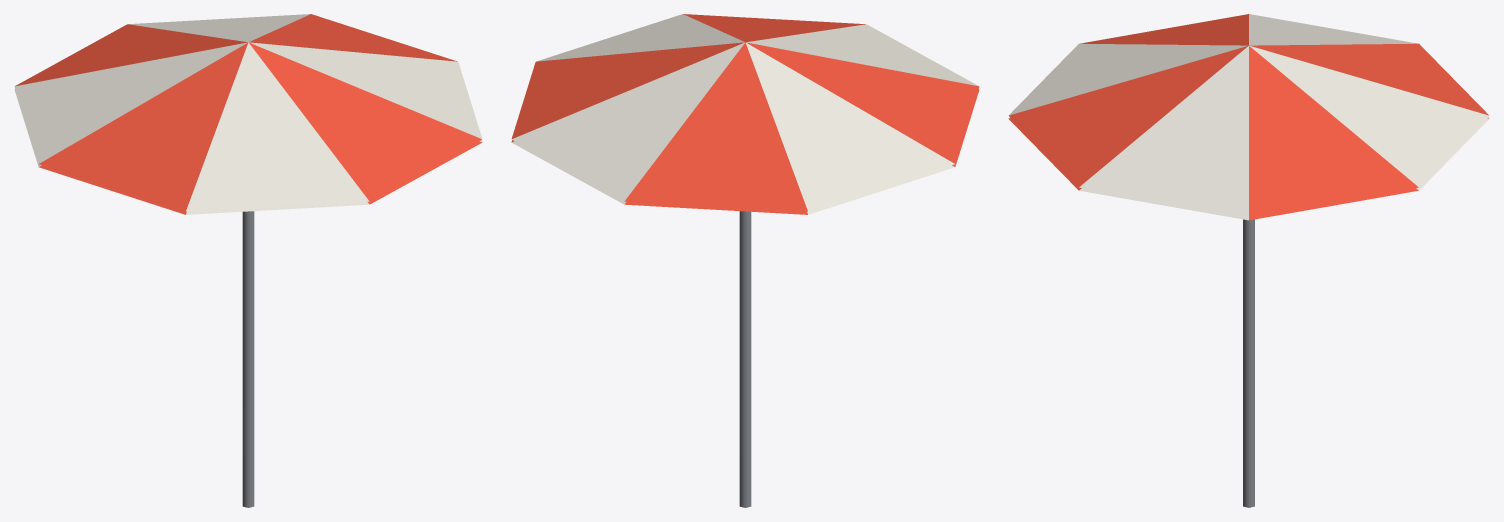
File: SM_BeachUmbrella.fbx
3 renders of one model, left to right at view 1: azimuth 30°, elevation 25°; view 2: azimuth 150°, elevation 25°; view 3: azimuth 270°, elevation 25°, orthographic.
Visible parts, largest first — view 1: SM_BeachUmbrella; view 2: SM_BeachUmbrella; view 3: SM_BeachUmbrella.
Part boxes in pixels (box(x1,y1,x2,y2)): SM_BeachUmbrella: box(14, 14, 482, 507); SM_BeachUmbrella: box(511, 14, 979, 507); SM_BeachUmbrella: box(1008, 14, 1489, 507).
Size of what is drawn, in the model's own units: 2.8 by 2.95 by 2.8.
